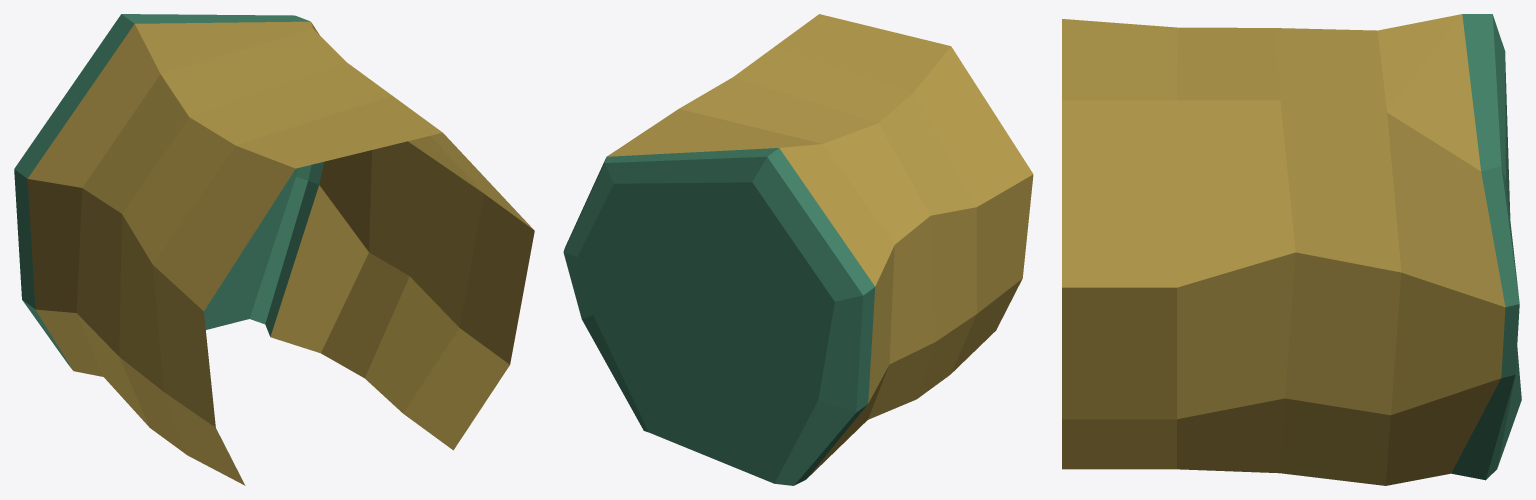
Rendered from Cliff_4_A.fbx.
3 renders of one model, left to right at view 1: azimuth 30°, elevation 25°; view 2: azimuth 150°, elevation 25°; view 3: azimuth 270°, elevation 25°, orthographic. The views are drawn at different scales.
Visible parts, largest first — view 1: Cliff_4_A.001; view 2: Cliff_4_A.001; view 3: Cliff_4_A.001.
Part boxes in pixels (left/top/right/bottom): Cliff_4_A.001: left=14, top=14, right=534, bottom=485; Cliff_4_A.001: left=563, top=14, right=1033, bottom=485; Cliff_4_A.001: left=1062, top=14, right=1521, bottom=485.
Size of the model in its own units: 6.97 by 7.05 by 7.39.
